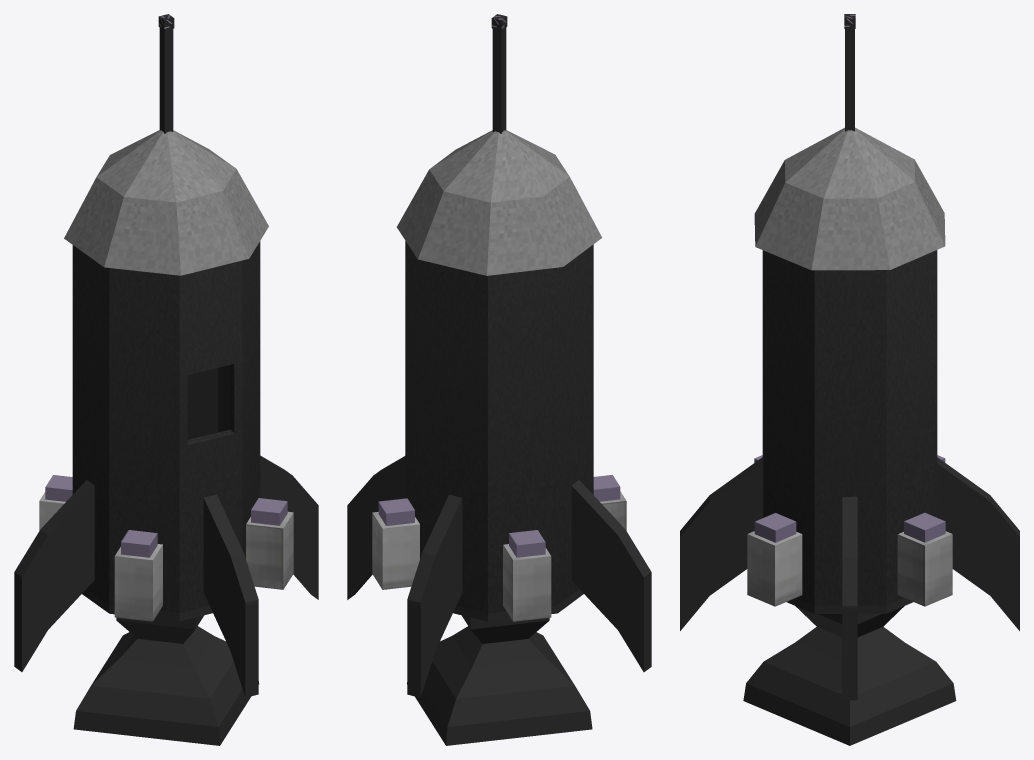
File: tier_6_rocket.obj
3 views of the same model, side by side, from view 1: azimuth 30°, elevation 25°; view 2: azimuth 150°, elevation 25°; view 3: azimuth 270°, elevation 25° (orthographic).
Visible parts, largest first — view 1: Rocket, NoseCone, Boosters; view 2: Rocket, NoseCone, Boosters; view 3: Rocket, NoseCone, Boosters.
Part boxes in pixels (bbox=[...]): Rocket: bbox=[14, 27, 318, 745]; NoseCone: bbox=[64, 130, 268, 275]; Boosters: bbox=[39, 475, 293, 621]; Rocket: bbox=[347, 27, 651, 745]; NoseCone: bbox=[397, 130, 602, 275]; Boosters: bbox=[372, 475, 626, 621]; Rocket: bbox=[680, 29, 1019, 745]; NoseCone: bbox=[754, 127, 945, 270]; Boosters: bbox=[747, 455, 952, 606].
Size of the model in its own units: 3.61 by 8.02 by 3.61.
